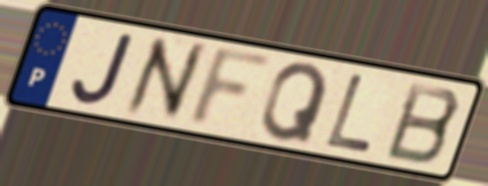B: (381, 78, 464, 168)
F: (181, 44, 280, 132)
J: (70, 30, 139, 107)
L: (321, 71, 376, 157)
N: (120, 33, 209, 123)
Q: (257, 61, 332, 147)
